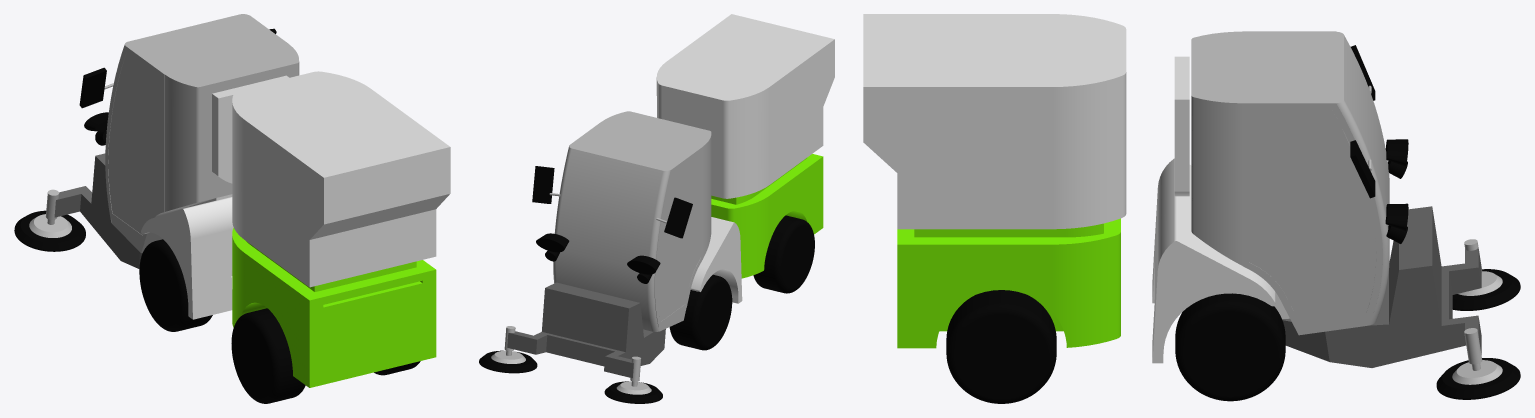
3 views of the same model, side by side, from view 1: azimuth 30°, elevation 25°; view 2: azimuth 150°, elevation 25°; view 3: azimuth 270°, elevation 25° (orthographic). The views are drawn at different scales.
Parts seen in each view (by area): view 1: adcd7d3b-bcc9-4396-89df-5b4fb2f2d81f, aaee418e-b52e-4524-bbea-39838309a59d, a038a164-6ab5-49bc-8521-053d324a59f6, ab4d728f-c667-4d41-9fc8-ca9a034dc4a5, af4422f8-8480-4d25-8e9f-f676bcd5ce76, a494059e-dd84-4925-bd7c-f5cf0209cc98, cbb9710f-c859-4041-83a3-0250496a6ef9, ba9c982e-5e4e-4db9-a853-fd1cab0a25a4, cc15ee59-46de-4863-bb4c-1e373fce056e, a7229fe5-845a-465e-b0ad-80308f40f1ac, ba3ef88f-deb3-4800-88f0-5baa7d22ec4e; view 2: aaee418e-b52e-4524-bbea-39838309a59d, adcd7d3b-bcc9-4396-89df-5b4fb2f2d81f, cbb9710f-c859-4041-83a3-0250496a6ef9, a038a164-6ab5-49bc-8521-053d324a59f6, af4422f8-8480-4d25-8e9f-f676bcd5ce76, a494059e-dd84-4925-bd7c-f5cf0209cc98, ab4d728f-c667-4d41-9fc8-ca9a034dc4a5, a7229fe5-845a-465e-b0ad-80308f40f1ac, aec2d6a4-9c04-41fa-b600-54f67035c456, a47784de-dda4-4e3e-813e-1b9dd125407b, cc15ee59-46de-4863-bb4c-1e373fce056e, a92d36a0-1e14-48fc-8bae-c8cd68ce15e9 (+3 smaller); view 3: adcd7d3b-bcc9-4396-89df-5b4fb2f2d81f, aaee418e-b52e-4524-bbea-39838309a59d, a038a164-6ab5-49bc-8521-053d324a59f6, cbb9710f-c859-4041-83a3-0250496a6ef9, ad0272cb-fcf2-4d67-9d50-8faf5b1f7824, ac7832fd-40f1-444b-8b7e-c1bfeb02cc27, ab4d728f-c667-4d41-9fc8-ca9a034dc4a5, ba9c982e-5e4e-4db9-a853-fd1cab0a25a4, a47784de-dda4-4e3e-813e-1b9dd125407b, cc15ee59-46de-4863-bb4c-1e373fce056e, a63fcaee-c7b3-48fd-8796-4198fcaf663d, aec2d6a4-9c04-41fa-b600-54f67035c456.
Part boxes in pixels (x1=…): adcd7d3b-bcc9-4396-89df-5b4fb2f2d81f: x1=232, y1=71, x2=450, y2=287; aaee418e-b52e-4524-bbea-39838309a59d: x1=105, y1=14, x2=299, y2=253; a038a164-6ab5-49bc-8521-053d324a59f6: x1=232, y1=228, x2=436, y2=387; ab4d728f-c667-4d41-9fc8-ca9a034dc4a5: x1=141, y1=194, x2=233, y2=319; af4422f8-8480-4d25-8e9f-f676bcd5ce76: x1=231, y1=308, x2=305, y2=403; a494059e-dd84-4925-bd7c-f5cf0209cc98: x1=139, y1=239, x2=212, y2=331; cbb9710f-c859-4041-83a3-0250496a6ef9: x1=54, y1=153, x2=142, y2=268; ba9c982e-5e4e-4db9-a853-fd1cab0a25a4: x1=212, y1=75, x2=289, y2=183; cc15ee59-46de-4863-bb4c-1e373fce056e: x1=14, y1=210, x2=85, y2=251; a7229fe5-845a-465e-b0ad-80308f40f1ac: x1=79, y1=67, x2=106, y2=108; ba3ef88f-deb3-4800-88f0-5baa7d22ec4e: x1=29, y1=214, x2=71, y2=237; aaee418e-b52e-4524-bbea-39838309a59d: x1=553, y1=111, x2=711, y2=331; adcd7d3b-bcc9-4396-89df-5b4fb2f2d81f: x1=656, y1=14, x2=834, y2=198; cbb9710f-c859-4041-83a3-0250496a6ef9: x1=507, y1=282, x2=665, y2=378; a038a164-6ab5-49bc-8521-053d324a59f6: x1=711, y1=154, x2=823, y2=278; af4422f8-8480-4d25-8e9f-f676bcd5ce76: x1=753, y1=215, x2=814, y2=293; a494059e-dd84-4925-bd7c-f5cf0209cc98: x1=669, y1=274, x2=732, y2=350; ab4d728f-c667-4d41-9fc8-ca9a034dc4a5: x1=690, y1=217, x2=742, y2=303; a7229fe5-845a-465e-b0ad-80308f40f1ac: x1=664, y1=197, x2=692, y2=238; aec2d6a4-9c04-41fa-b600-54f67035c456: x1=532, y1=166, x2=554, y2=203; a47784de-dda4-4e3e-813e-1b9dd125407b: x1=479, y1=350, x2=537, y2=373; cc15ee59-46de-4863-bb4c-1e373fce056e: x1=604, y1=381, x2=662, y2=403; a92d36a0-1e14-48fc-8bae-c8cd68ce15e9: x1=627, y1=255, x2=660, y2=274; adcd7d3b-bcc9-4396-89df-5b4fb2f2d81f: x1=863, y1=14, x2=1126, y2=229; aaee418e-b52e-4524-bbea-39838309a59d: x1=1191, y1=31, x2=1389, y2=335; a038a164-6ab5-49bc-8521-053d324a59f6: x1=897, y1=218, x2=1120, y2=348; cbb9710f-c859-4041-83a3-0250496a6ef9: x1=1282, y1=206, x2=1481, y2=367; ad0272cb-fcf2-4d67-9d50-8faf5b1f7824: x1=946, y1=290, x2=1056, y2=403; ac7832fd-40f1-444b-8b7e-c1bfeb02cc27: x1=1175, y1=293, x2=1285, y2=401; ab4d728f-c667-4d41-9fc8-ca9a034dc4a5: x1=1152, y1=158, x2=1289, y2=363; ba9c982e-5e4e-4db9-a853-fd1cab0a25a4: x1=1174, y1=56, x2=1189, y2=196; a47784de-dda4-4e3e-813e-1b9dd125407b: x1=1436, y1=358, x2=1520, y2=399; cc15ee59-46de-4863-bb4c-1e373fce056e: x1=1452, y1=269, x2=1520, y2=310; a63fcaee-c7b3-48fd-8796-4198fcaf663d: x1=1452, y1=360, x2=1502, y2=384; aec2d6a4-9c04-41fa-b600-54f67035c456: x1=1350, y1=140, x2=1375, y2=198.
Size of the model in its own units: 1740 by 3876 by 2030.
